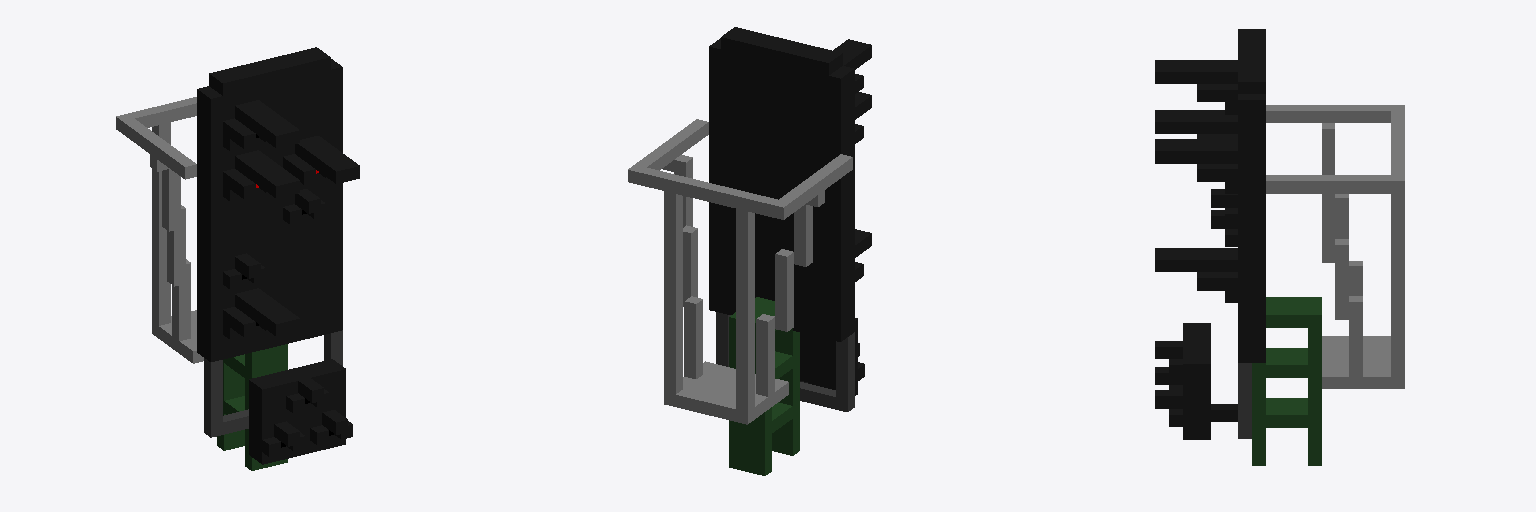
3 views of the same model, side by side, from view 1: azimuth 30°, elevation 25°; view 2: azimuth 150°, elevation 25°; view 3: azimuth 270°, elevation 25° (orthographic).
Visible parts, largest first — view 1: all; view 2: all; view 3: all.
Boxes of the visible parts, x1,y1,x2,y2 form: all: [116, 47, 359, 470]; all: [628, 27, 871, 475]; all: [1155, 29, 1404, 465].
Size of the model in its own units: 1.3 by 3.2 by 1.8.
1 materials, 1 textured.